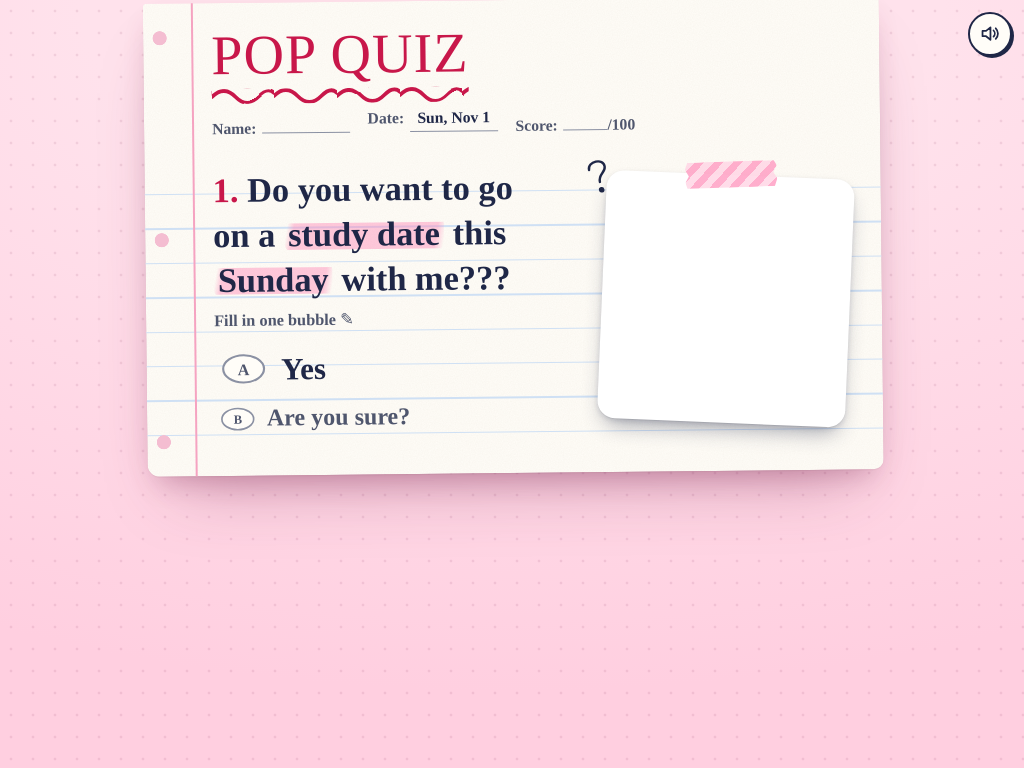
Test: Quiz › opens the note, pleads through every No and celebrates the corrected Yes
This screenshot has width=1024, height=768.
Earlier steps of the test are not shown.
Click the button "B Are you sure?" at [319, 418], box [215,395,424,441]
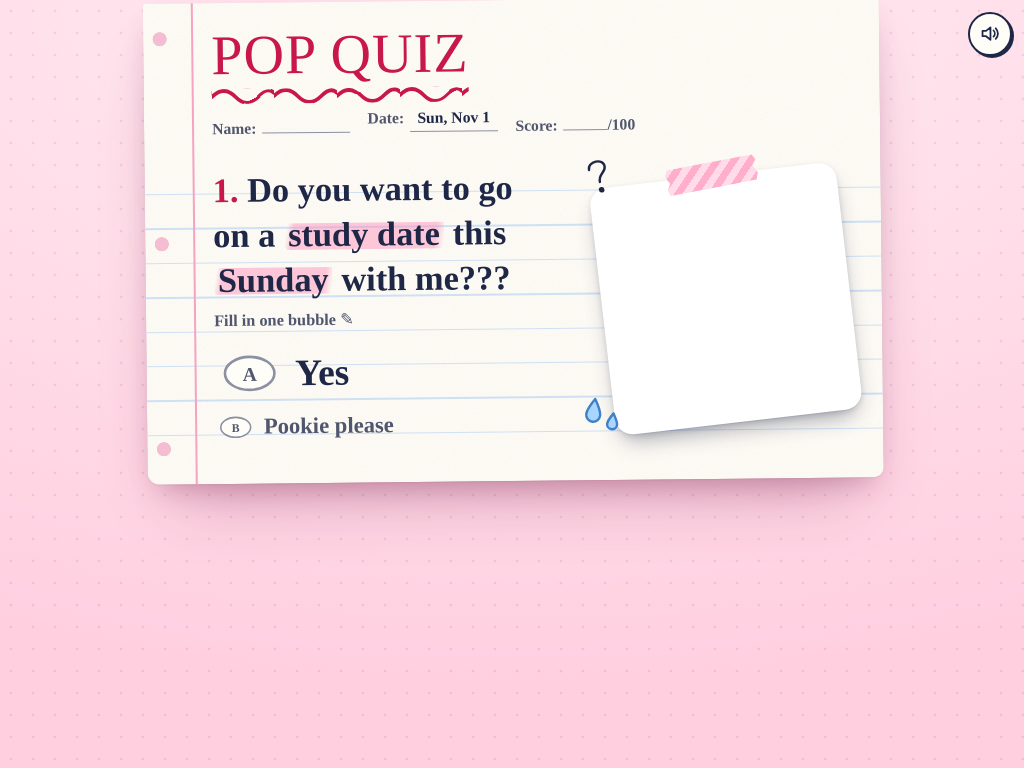
Click the button "B Pookie please" at [311, 426], box [215,403,406,449]
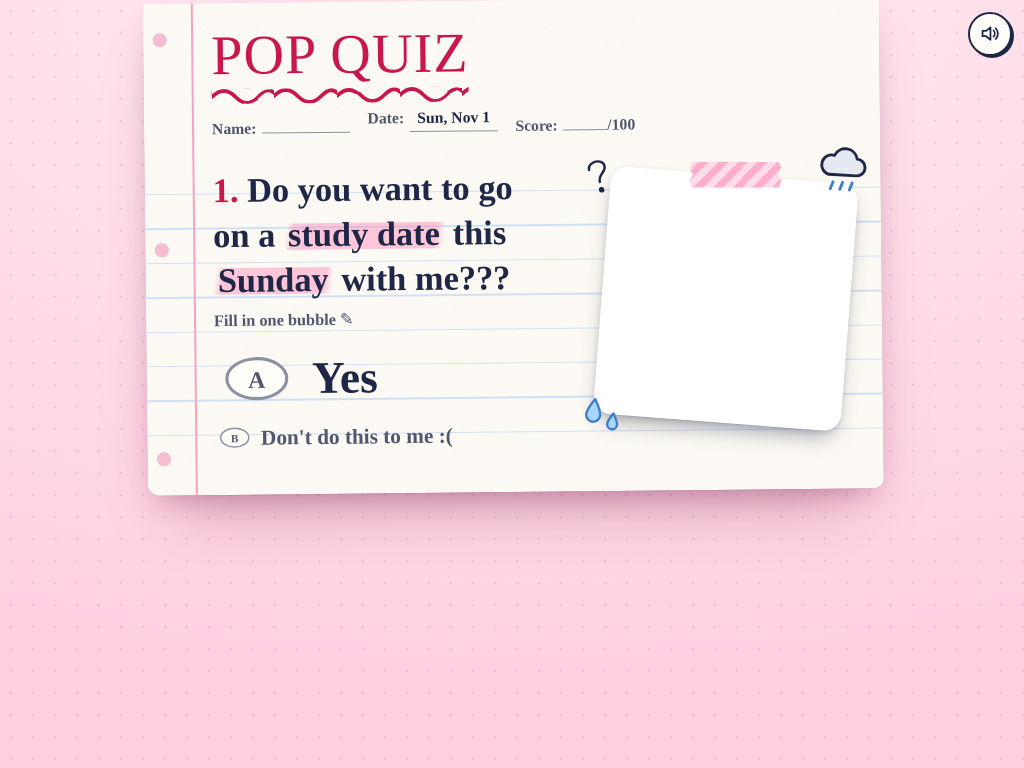
Click the button "B Don't do this to me :(" at [340, 437], box [215,414,465,460]
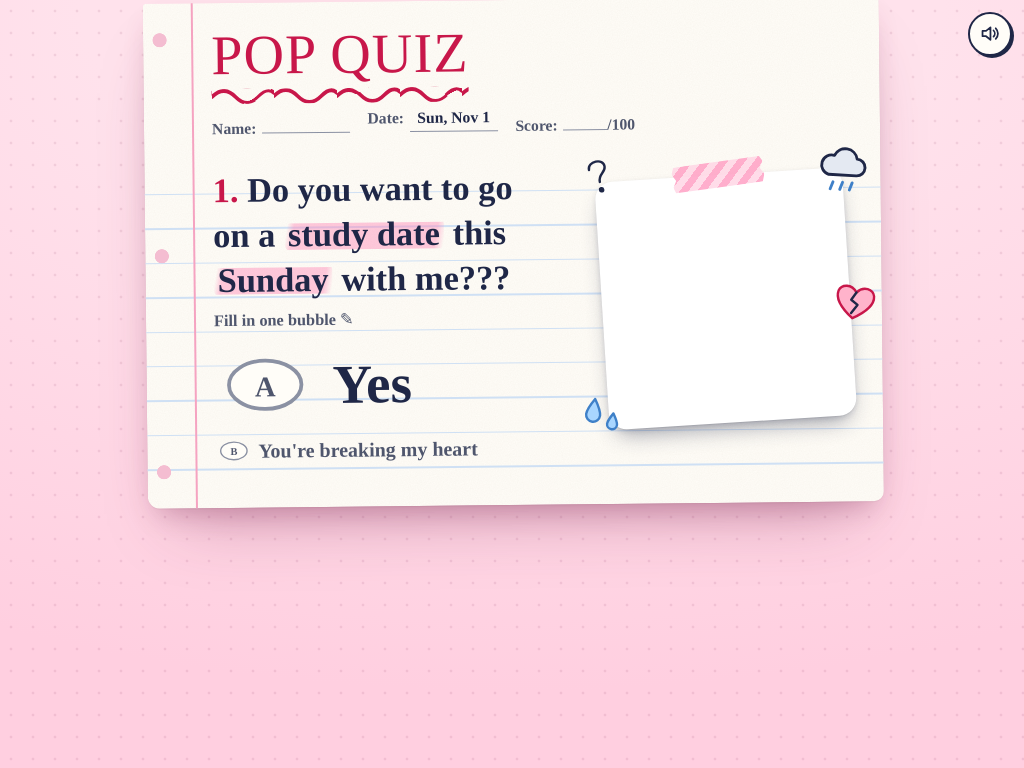
Click the button "B You're breaking my heart" at [352, 450], box [215,426,489,473]
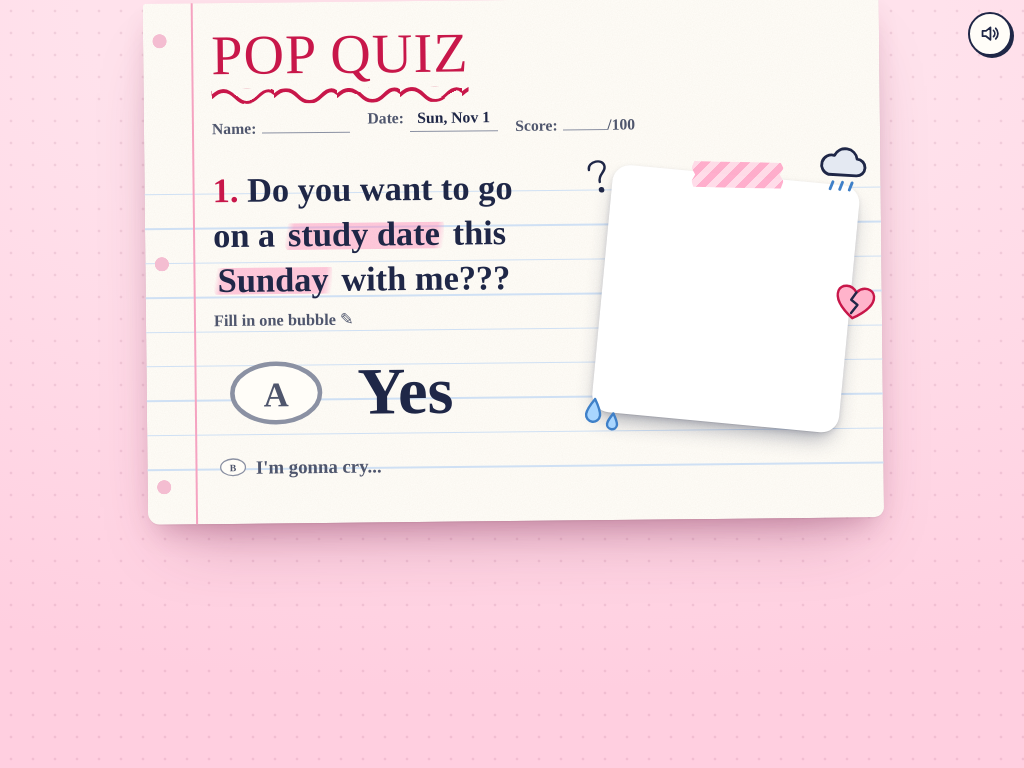
Click the button "B I'm gonna cry..." at [304, 466], box [215,444,392,489]
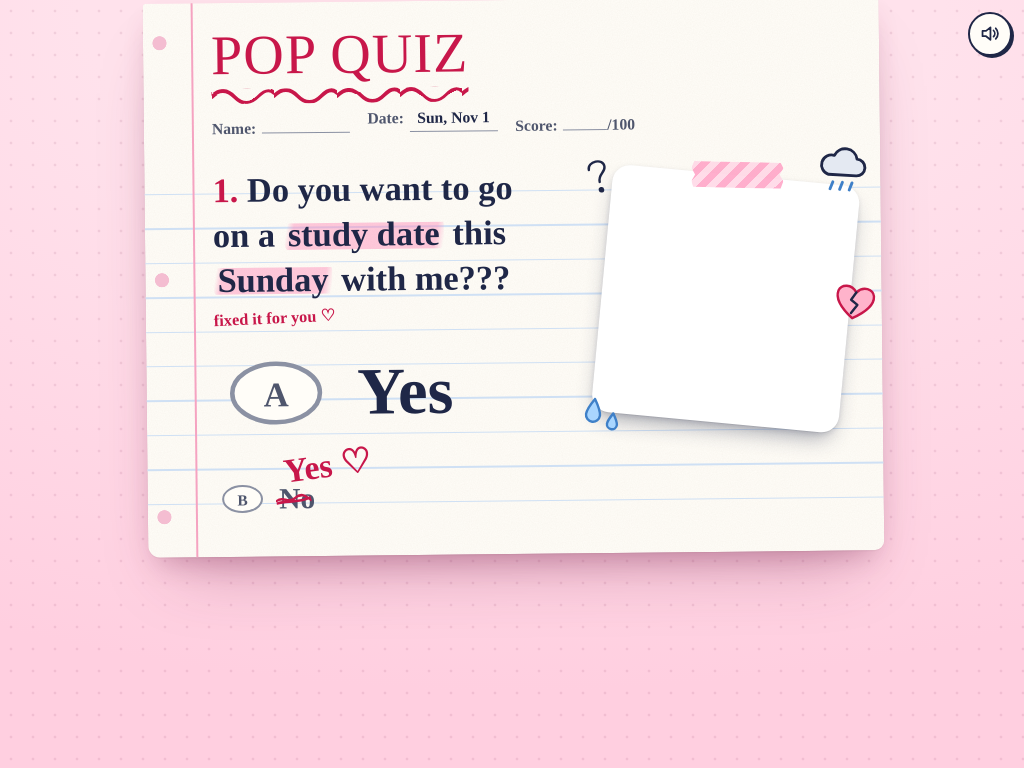
Check: the text "fixed it for you ♡" is shown, box [213,306,335,331]
Click the button "B No Yes ♡ (corrected to yes)" at [273, 499], box [216,477,331,522]
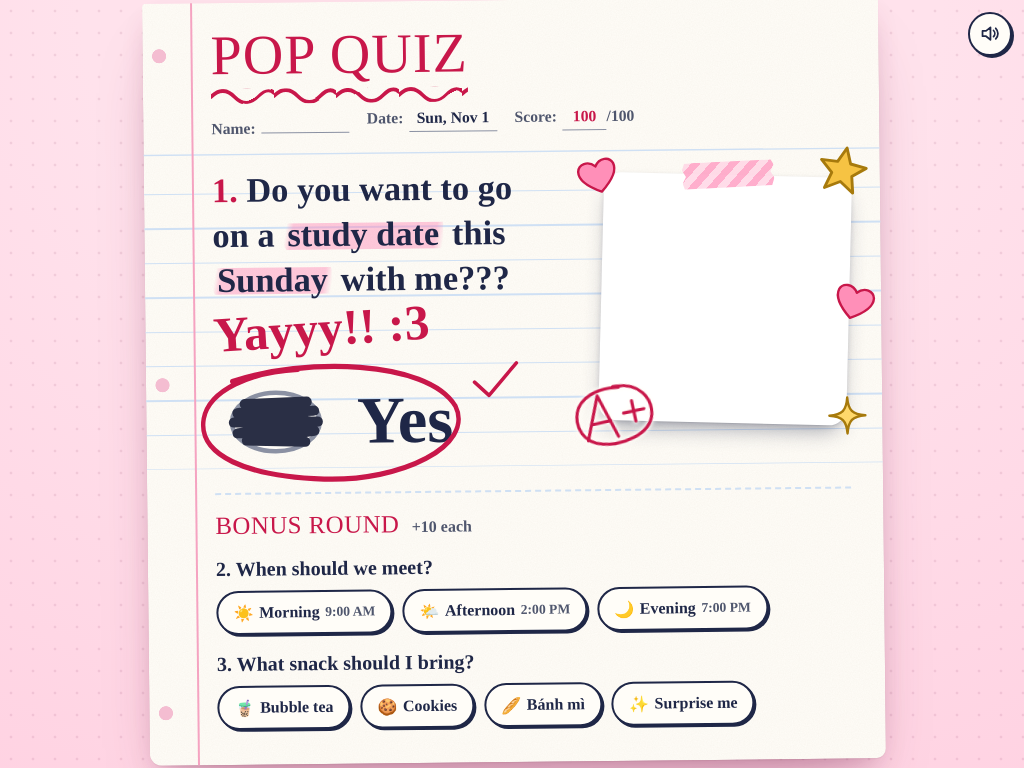
Check: the button "corrected" is not shown
Check: the text "Yayyy!! :3" is shown, box [212,294,431,363]
